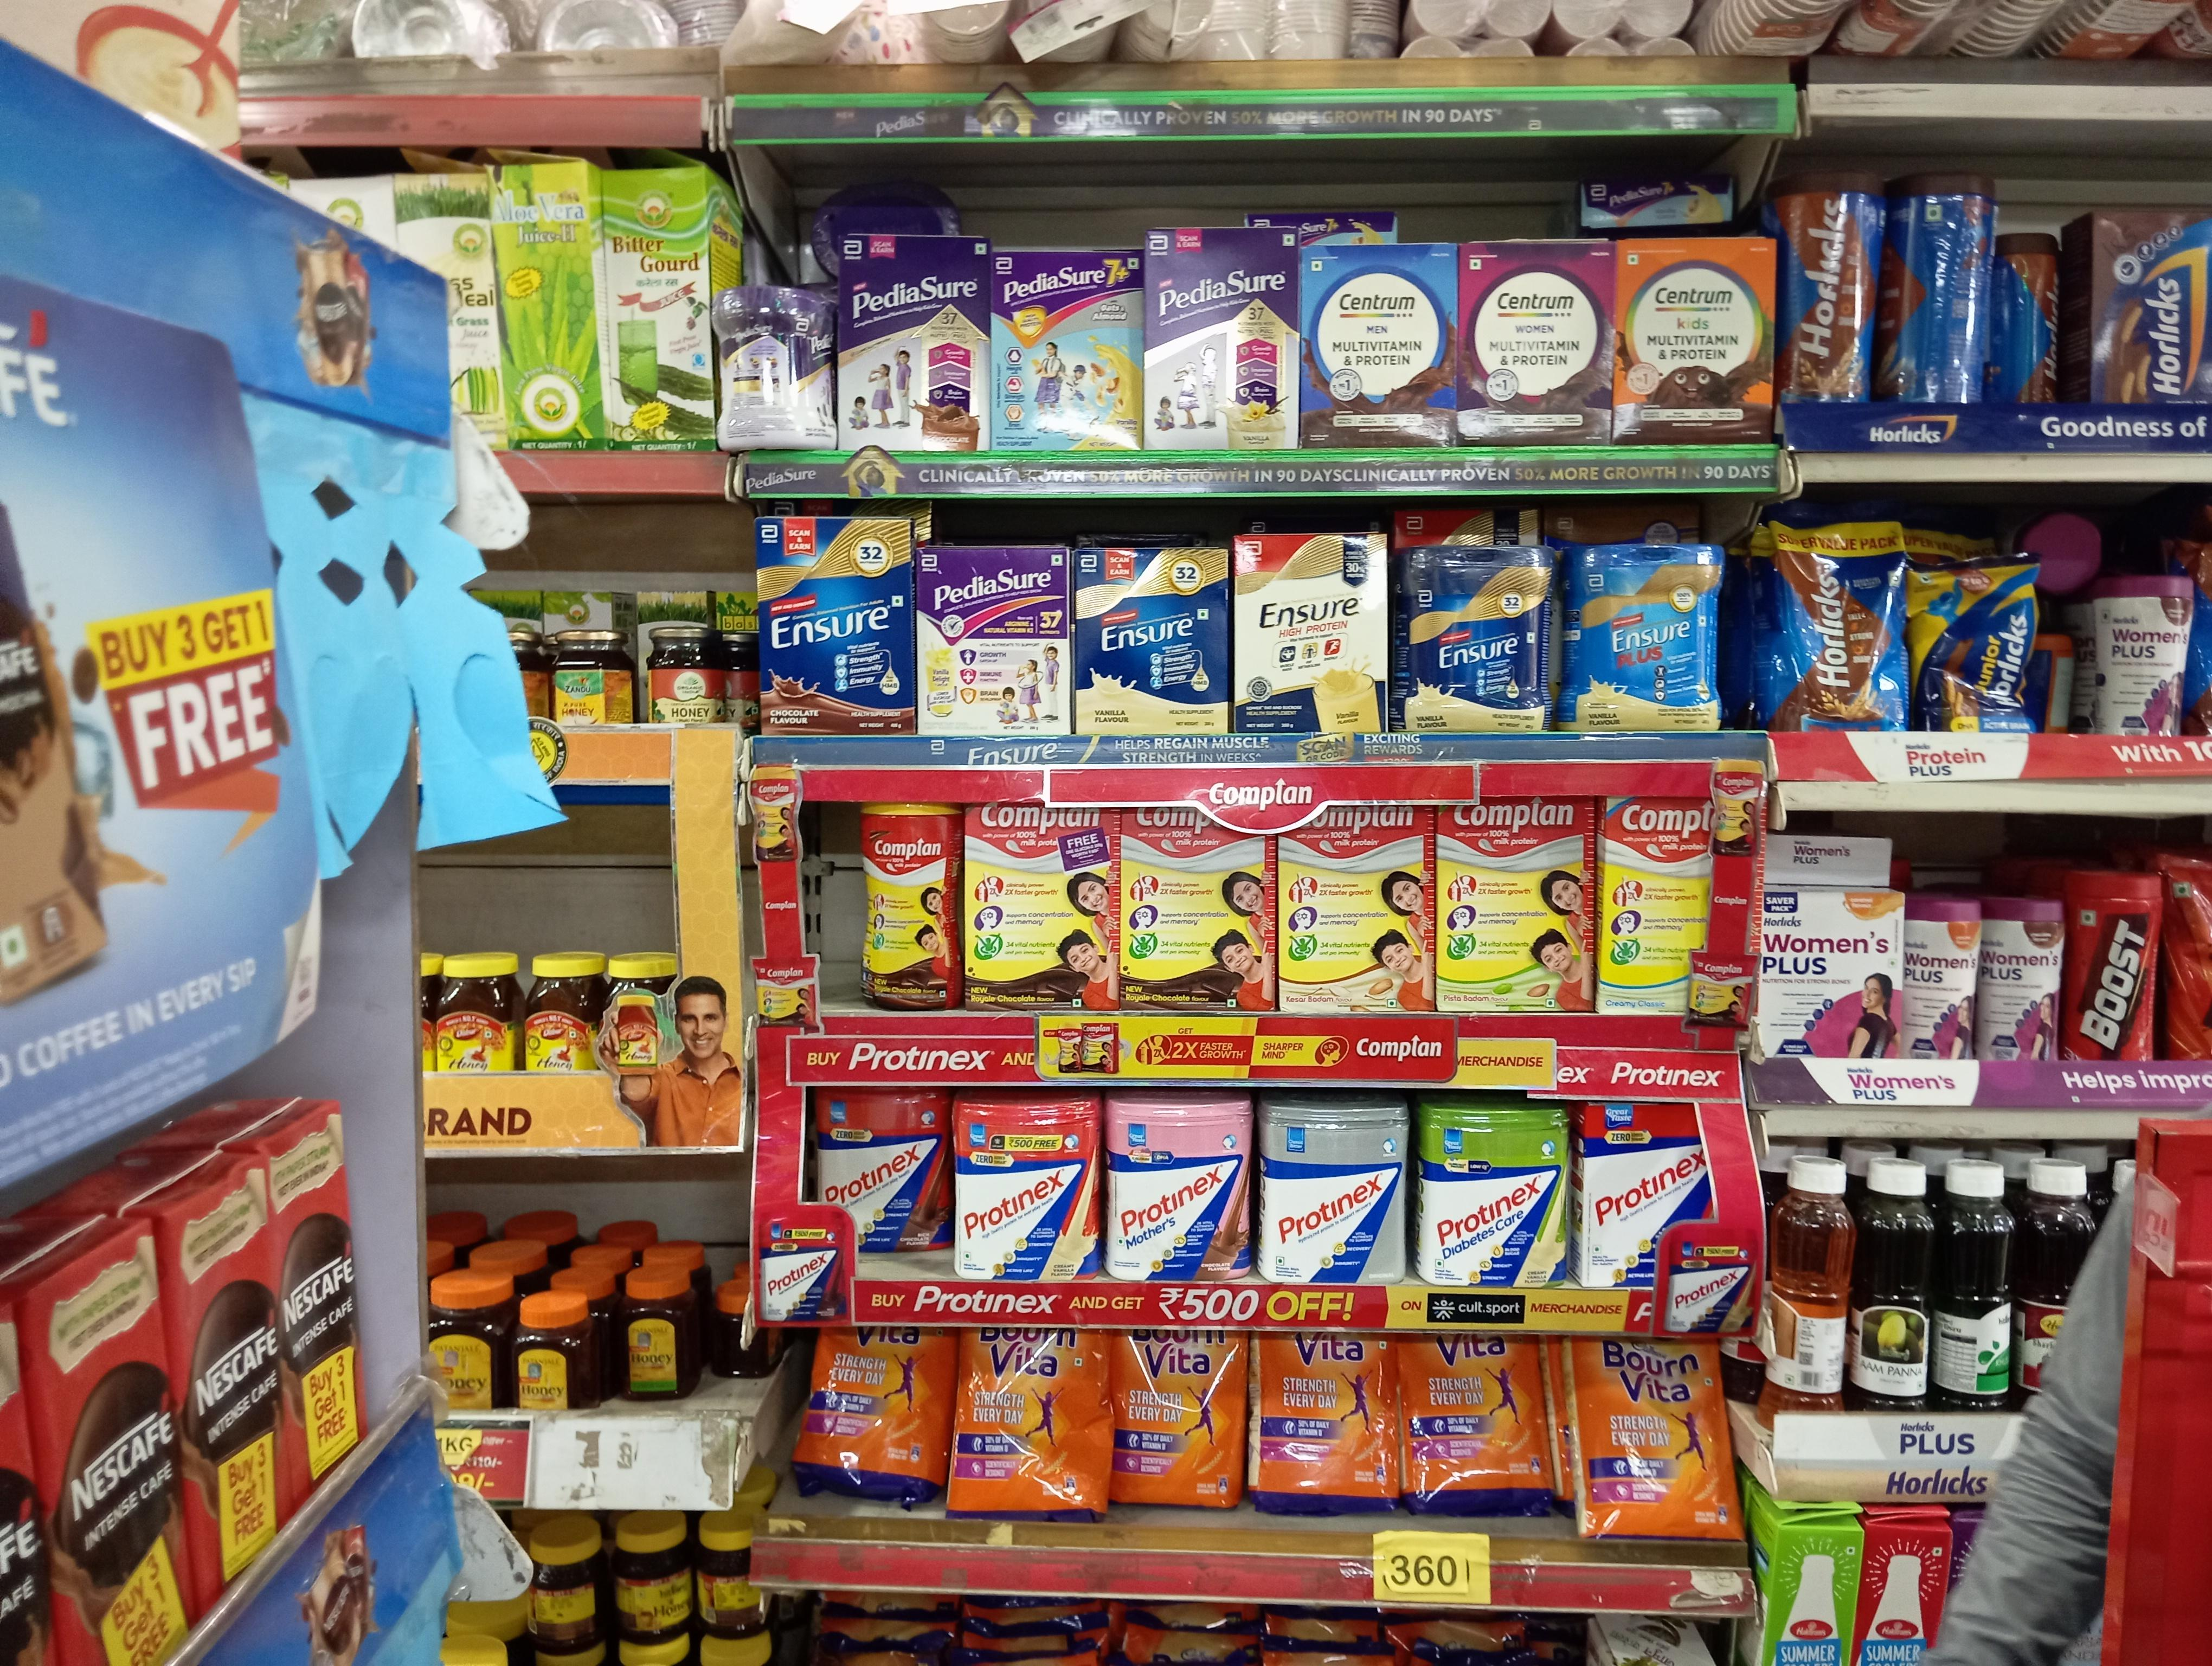BOURN_VITA_1_KG_POUCH: (1574, 1339, 1729, 1540), (955, 1328, 1107, 1519), (1401, 1333, 1546, 1521), (1252, 1330, 1394, 1514), (804, 1321, 937, 1502), (1117, 1325, 1238, 1510)
COMPLAN_CHOCOLATE_500_GMS_JAR: (862, 801, 958, 1010)
COMPLAN_CHOCOLATE_500_GMS_PACK: (962, 803, 1116, 1011), (1121, 810, 1275, 1006)
COMPLAN_CREAMY_CLASSIC_500_G_PACK: (1602, 798, 1693, 1015)
COMPLAN_KESAR_BADAM_500_GMS_PACK: (1282, 831, 1432, 1015)
COMPLAN_PISTA_BADAM_500_GMS_PACK: (1437, 808, 1595, 1015)
ENSURE_VANILLA_400_G_PACK: (1236, 537, 1392, 731), (1075, 550, 1228, 731)
HORLICK_CHOCOLATE_1_KG_JAR: (1782, 175, 1869, 404)
HORLICK_CHOCOLATE_750_G_POUCH: (1764, 506, 1904, 730)
PEDIASURE_CHOCOLATE_500_G_PACK: (838, 235, 990, 446)
PEDIASURE_VANILLA_500_G_PACK: (1147, 229, 1297, 450)
PROTINEX_CHOCOLATE_400_G_JAR: (850, 1092, 948, 1255)
PROTINEX_ORIGINAL_400_G_JAR: (1261, 1102, 1406, 1285)
PROTINEX_VANILLA_400_G_JAR: (953, 1094, 1098, 1283)
